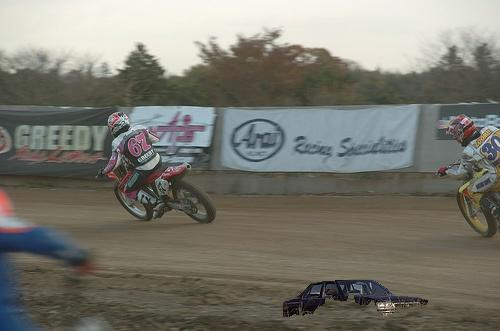tampered: (284, 281, 428, 317)
